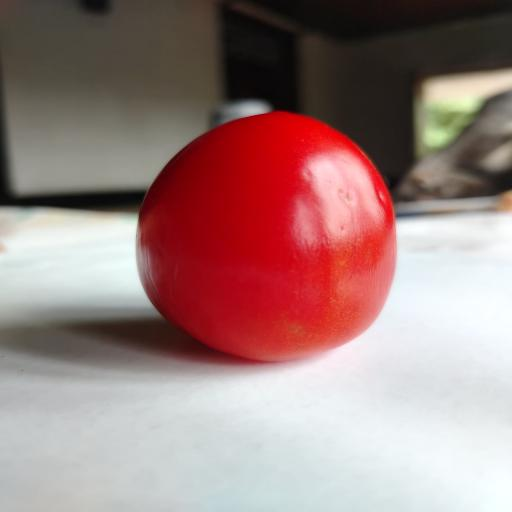ripe: (137, 112, 396, 360)
